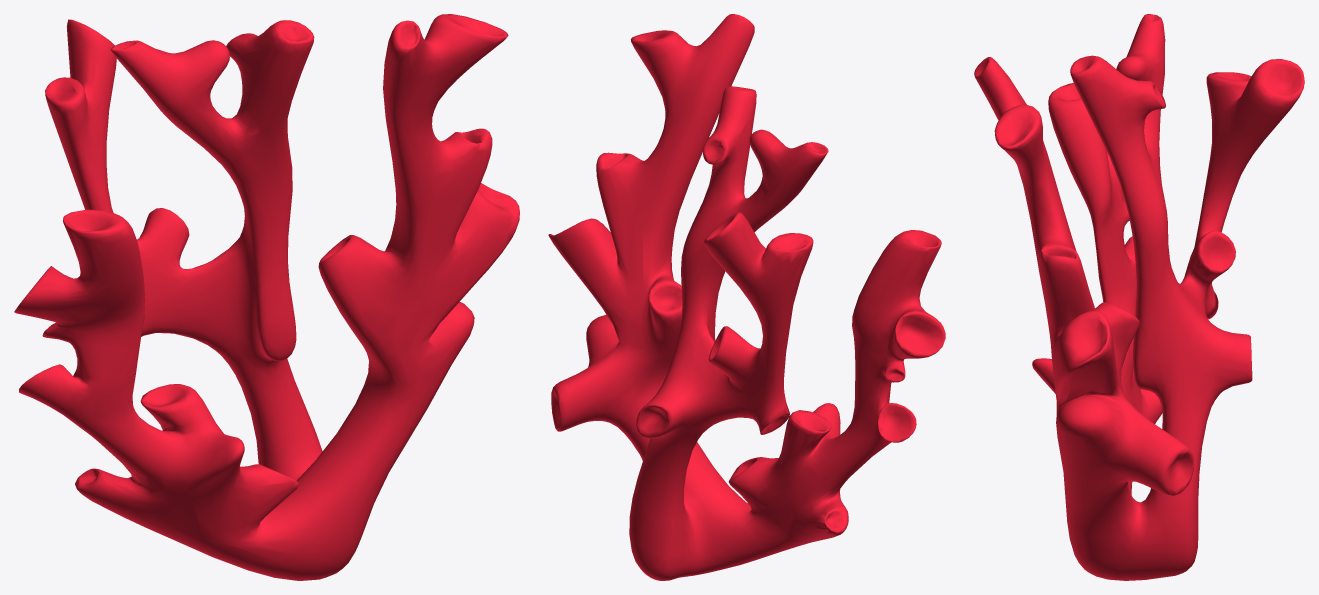
File: Coral.fbx
3 views of the same model, side by side, from view 1: azimuth 30°, elevation 25°; view 2: azimuth 150°, elevation 25°; view 3: azimuth 270°, elevation 25° (orthographic). The views are drawn at different scales.
Parts seen in each view (by area): view 1: Coral; view 2: Coral; view 3: Coral.
Part boxes in pixels (x1,y1,x2,y2): Coral: (14, 14, 519, 580); Coral: (548, 14, 945, 580); Coral: (974, 14, 1304, 580).
Bounding box in the file's own units: 245 × 289 × 164.
